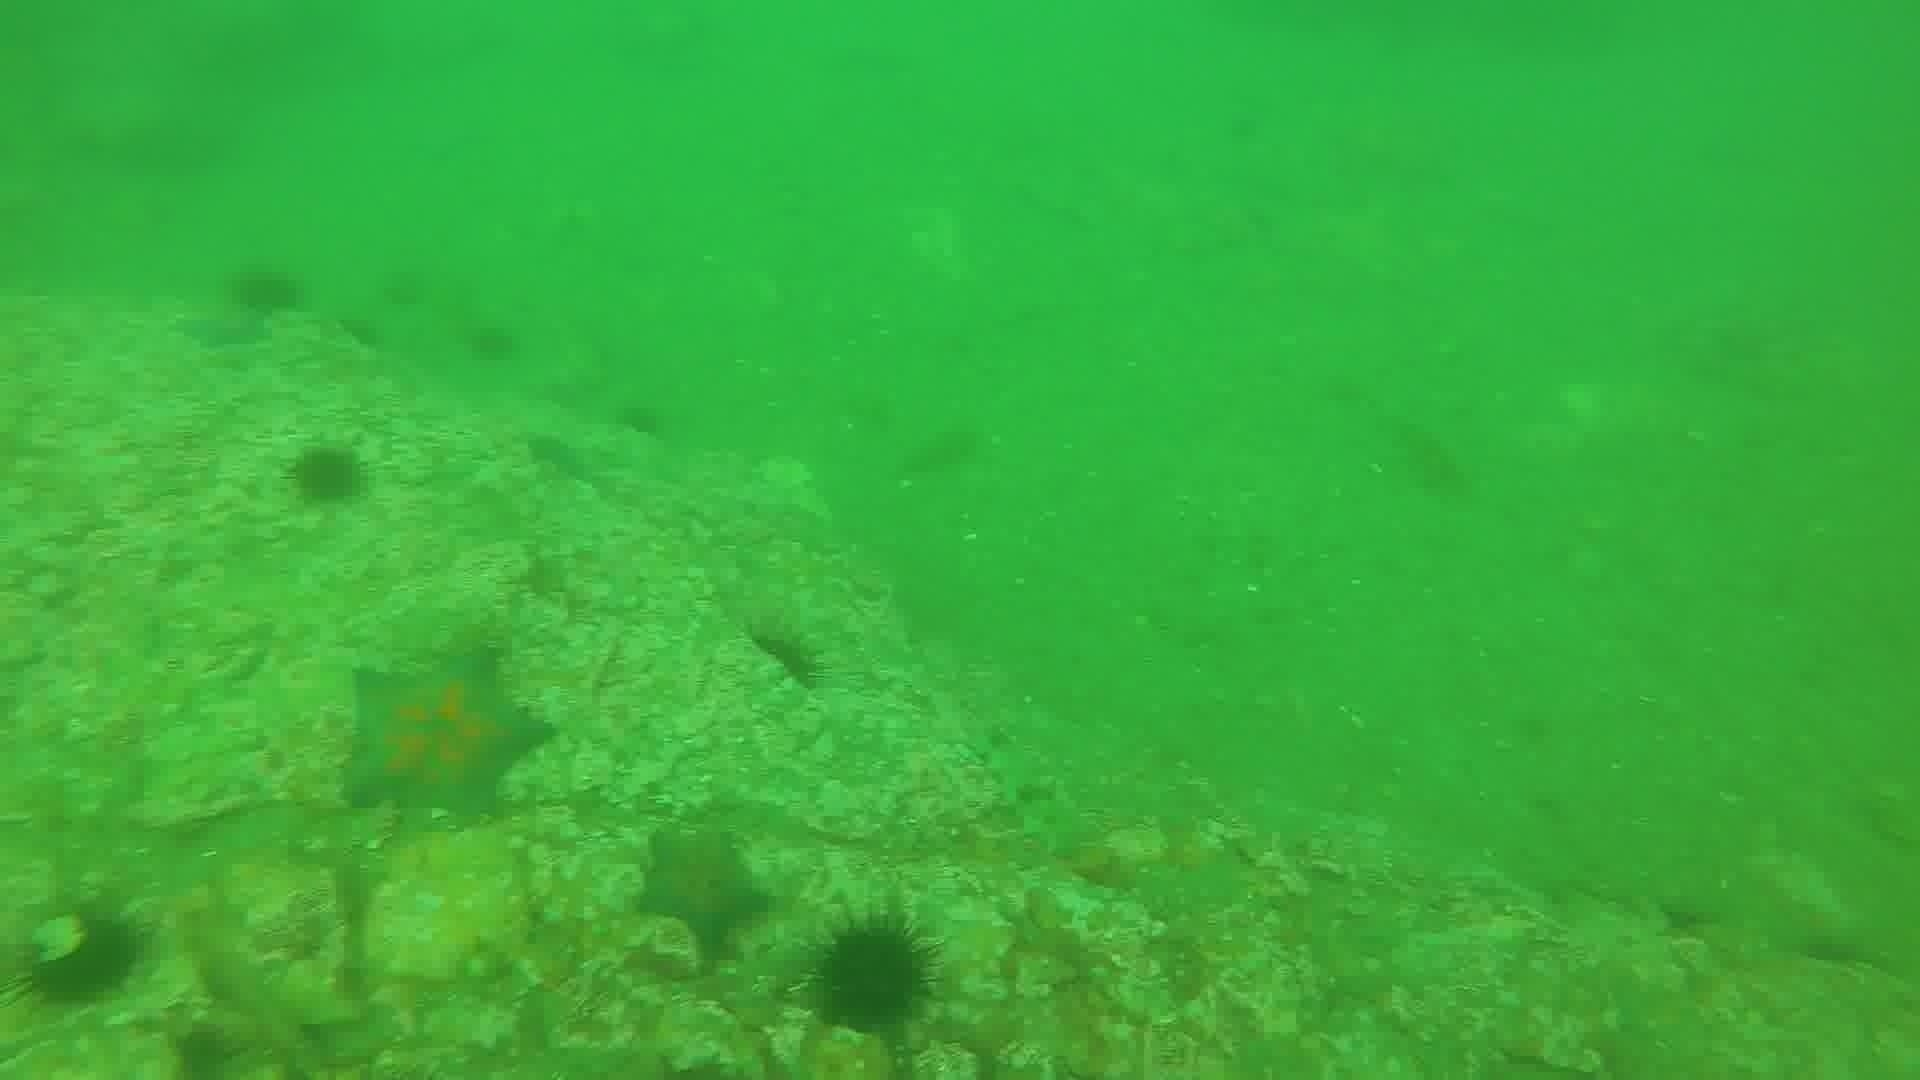echinus: (804, 913, 943, 1035), (17, 906, 146, 1011), (740, 613, 832, 698), (282, 438, 371, 512), (225, 261, 307, 322), (166, 1019, 244, 1079), (520, 427, 587, 483), (462, 316, 524, 368), (613, 397, 670, 444)
holothurian: (947, 699, 1100, 864)
starfish: (336, 641, 555, 825), (629, 822, 775, 961), (171, 299, 274, 353)
